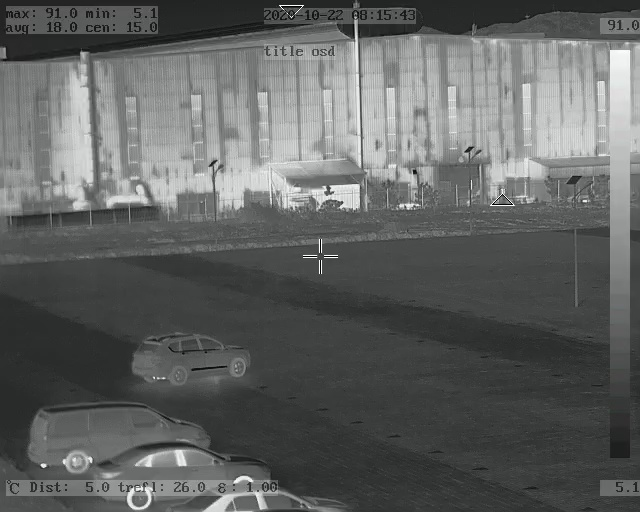vehicle: (82, 437, 281, 507), (29, 402, 214, 472), (129, 332, 254, 386), (177, 482, 342, 512)
